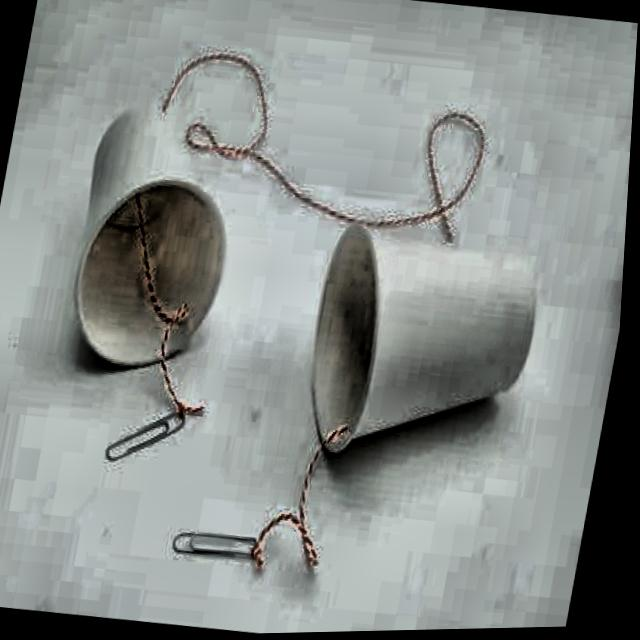Cup: (277, 201, 559, 490), (46, 91, 263, 396)
